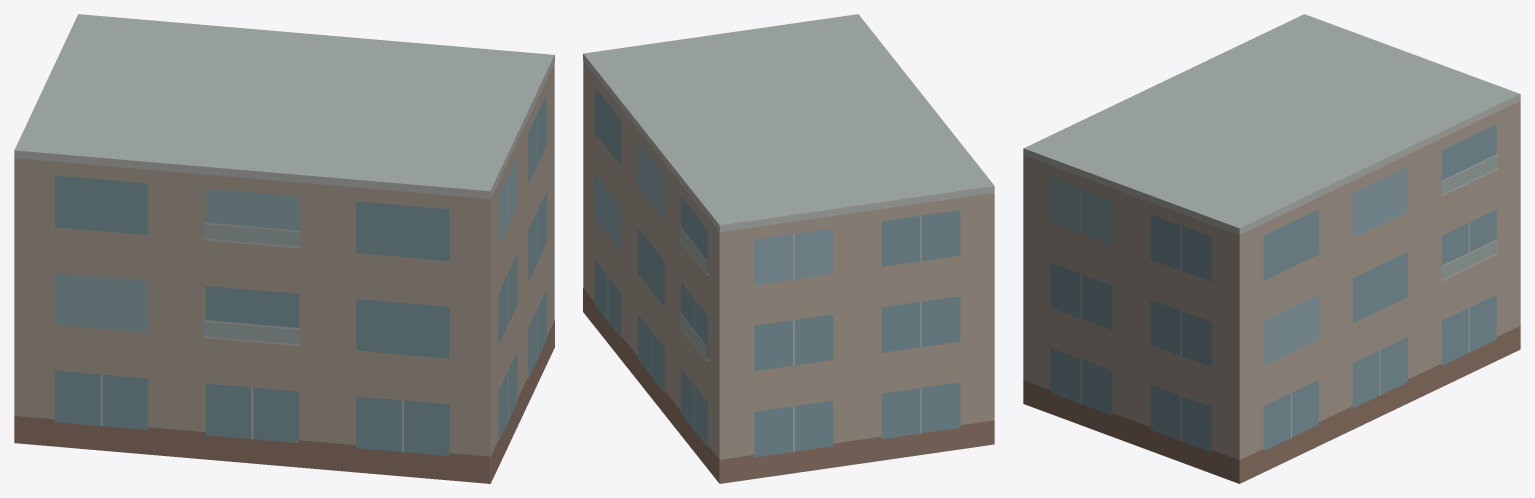
The model's file is survey-upis-32892462.glb.
3 renders of one model, left to right at view 1: azimuth 30°, elevation 25°; view 2: azimuth 150°, elevation 25°; view 3: azimuth 270°, elevation 25°, orthographic. The views are drawn at different scales.
Visible parts, largest first — view 1: survey-upis-32892462.tmp; view 2: survey-upis-32892462.tmp; view 3: survey-upis-32892462.tmp.
Part boxes in pixels (x1,y1,x2,y2): survey-upis-32892462.tmp: [14, 14, 554, 483]; survey-upis-32892462.tmp: [583, 14, 994, 483]; survey-upis-32892462.tmp: [1023, 14, 1520, 483].
Bounding box in the file's own units: 16.48 × 9.15 × 16.14.
